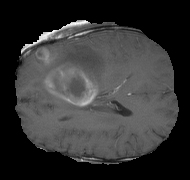Edema: (21, 39, 114, 115)
EnhancingTumors: (32, 48, 98, 104)
Necrosis: (34, 48, 95, 101)
